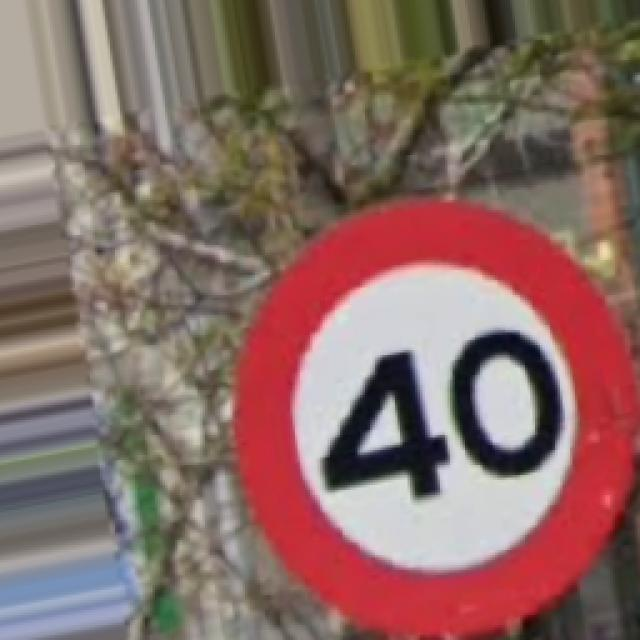Speed Limit -40-: (235, 198, 635, 632)
